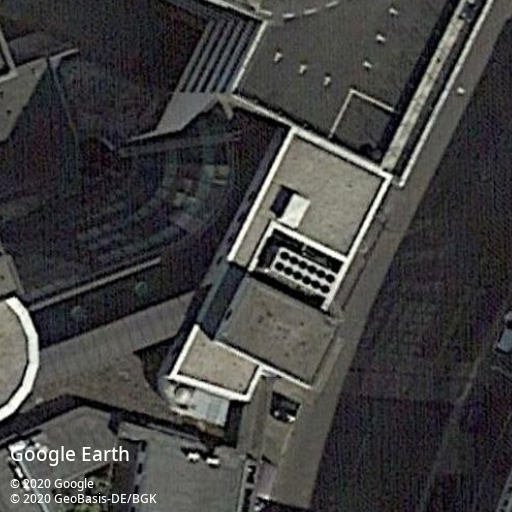Chiller: (269, 246, 339, 297)
